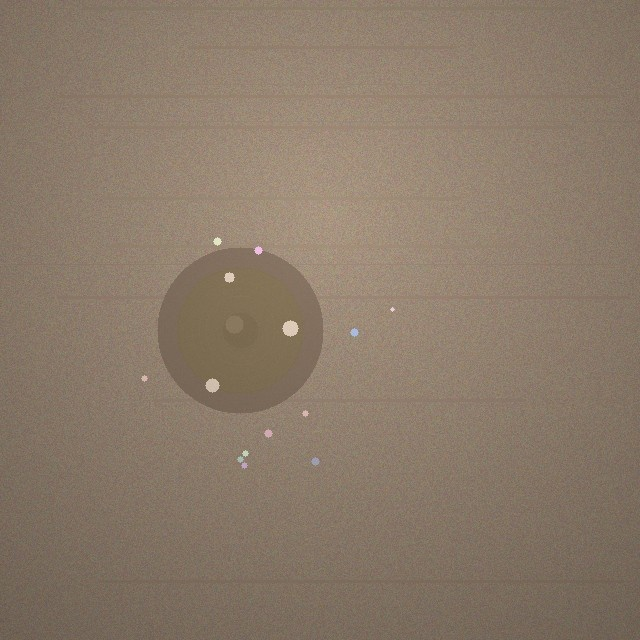overburn: (157, 247, 323, 413)
